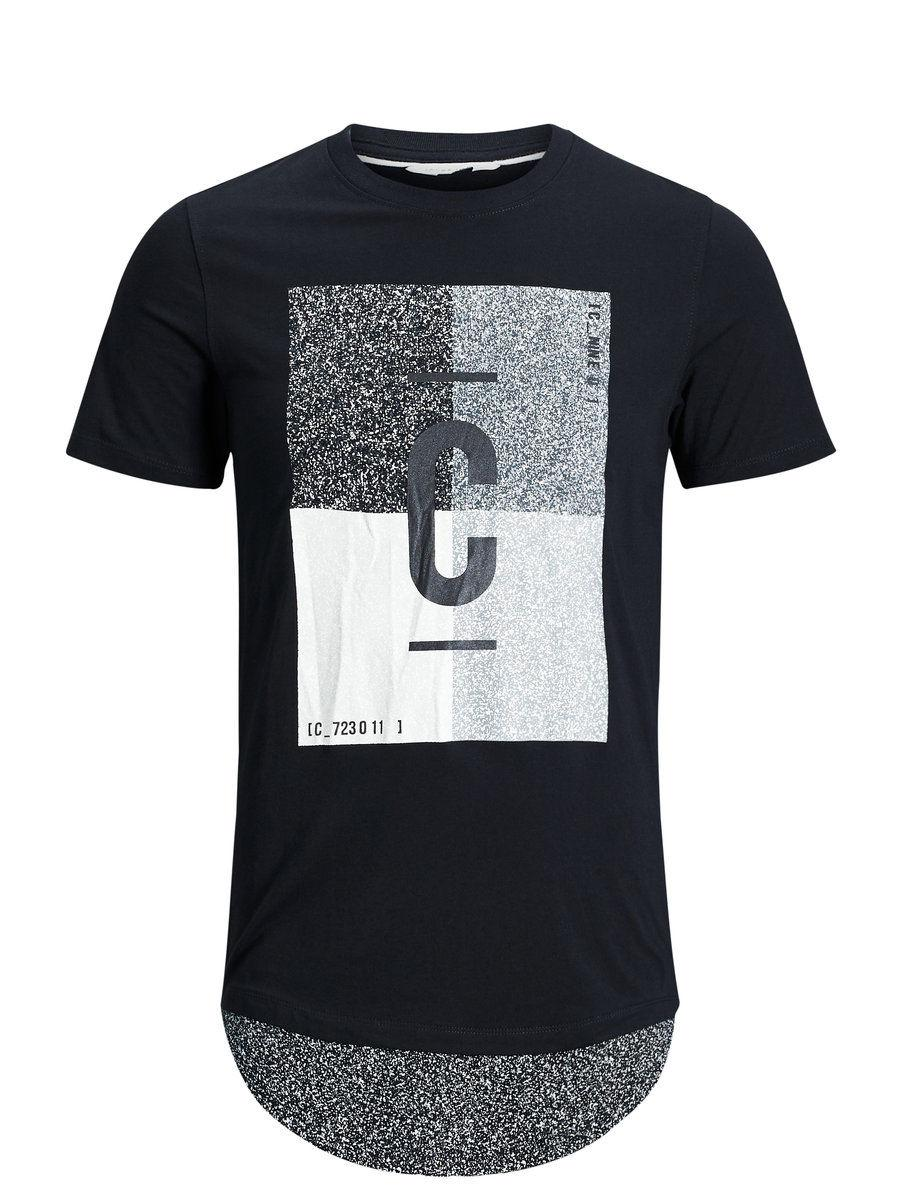teeshirt: (29, 114, 892, 1176)
